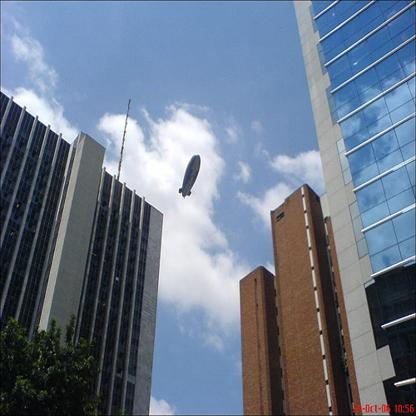Airship: (173, 150, 212, 206)
